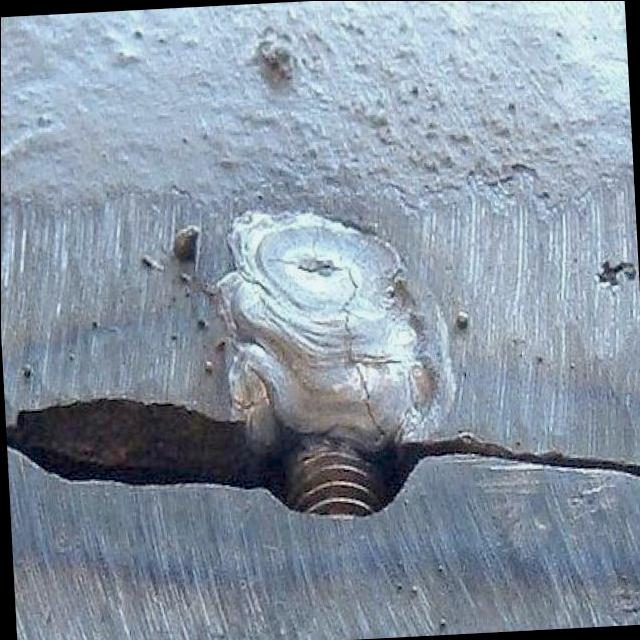defect: (265, 229, 386, 445)
